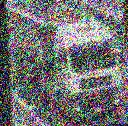truck: (8, 0, 123, 121)
